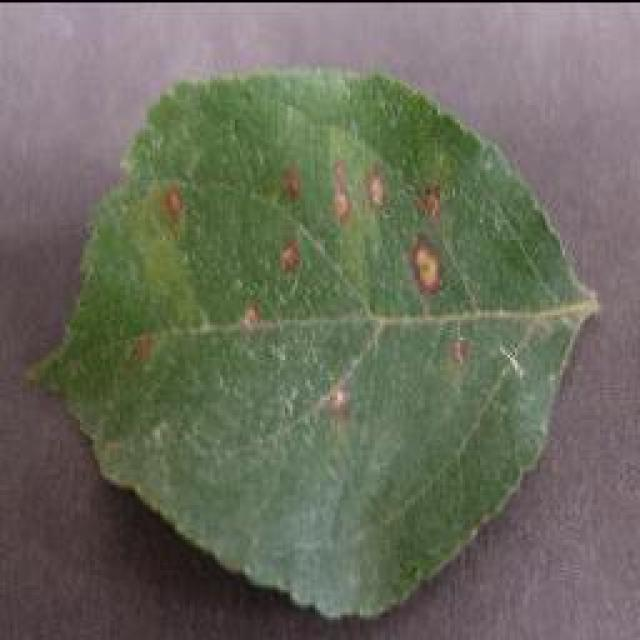apple cedar apple rust: (25, 62, 600, 620)
